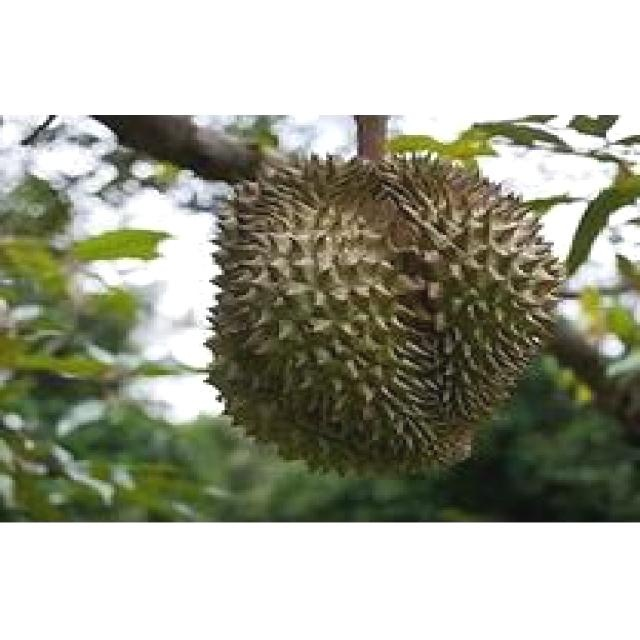agrume: (187, 135, 578, 497)
